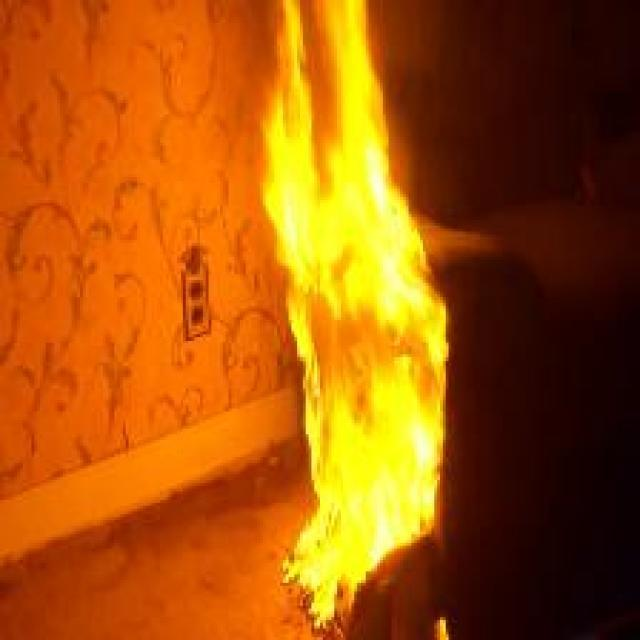Fire: (247, 0, 462, 640)
